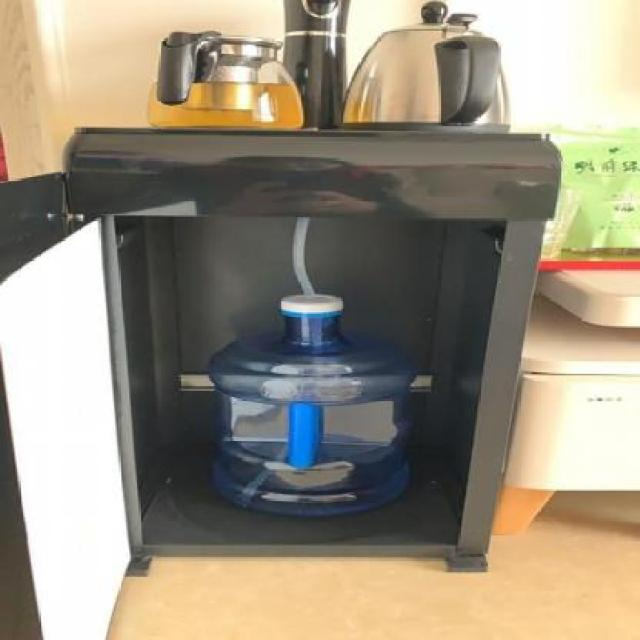cooler: (57, 0, 568, 572)
